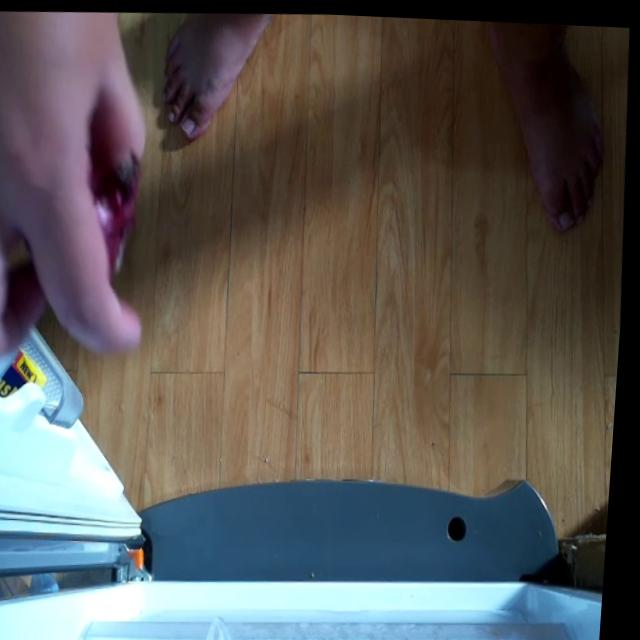onion: (82, 155, 157, 268)
